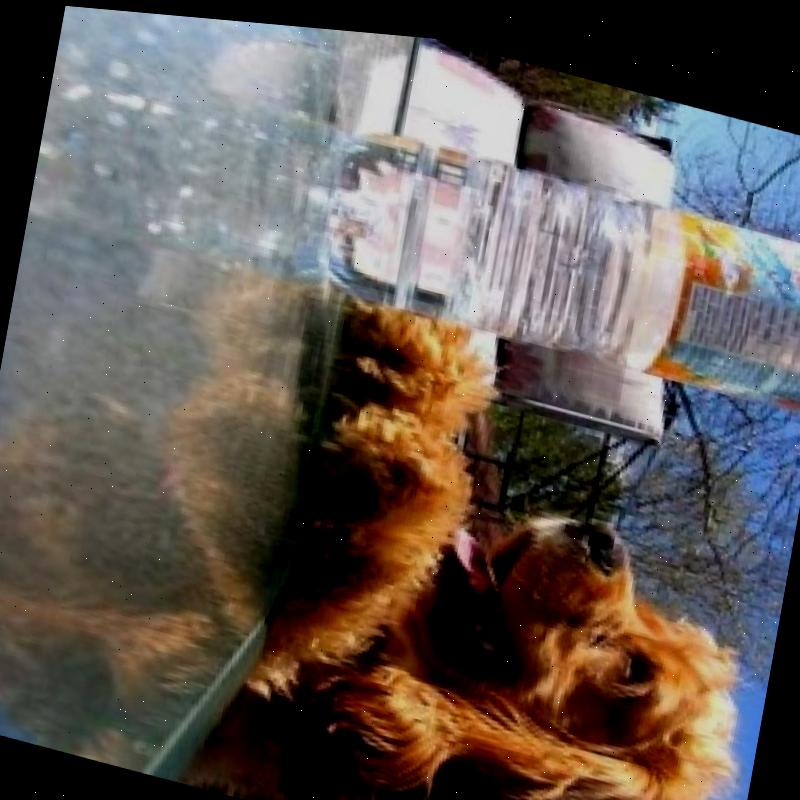botella: (307, 108, 800, 409)
